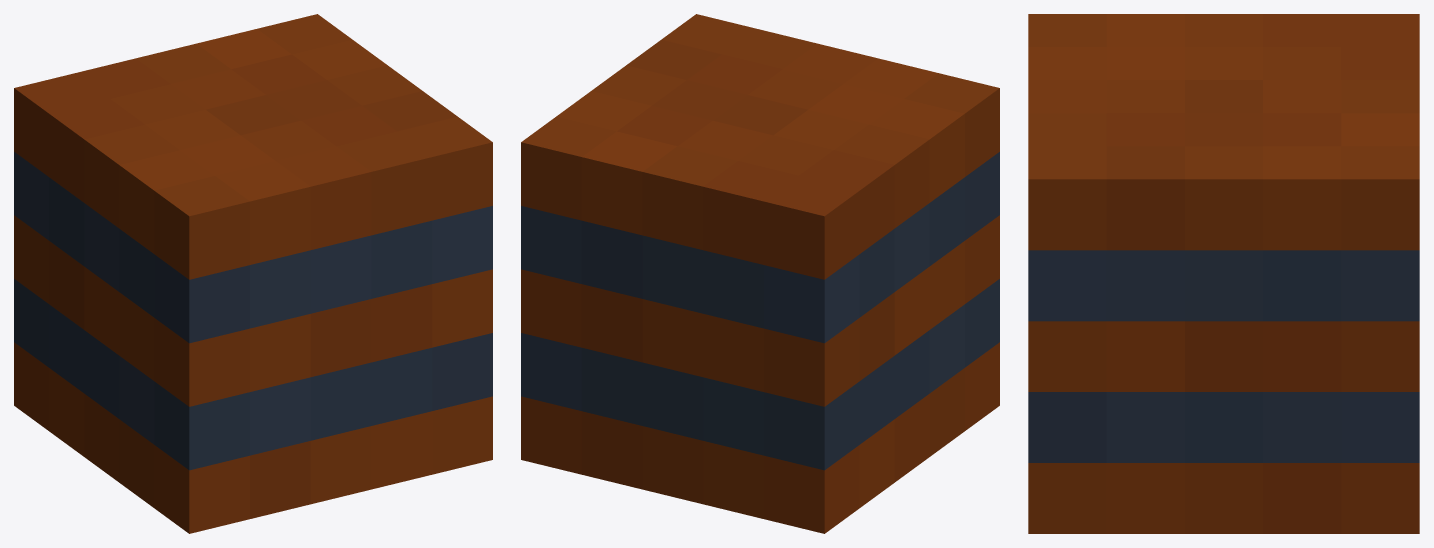
The model's file is barrel.glb.
The picture shows the model from 3 angles, left to right: view 1: azimuth 30°, elevation 25°; view 2: azimuth 150°, elevation 25°; view 3: azimuth 270°, elevation 25°; orthographic projection. The views are drawn at different scales.
Visible parts, largest first — view 1: VoxelBarrel; view 2: VoxelBarrel; view 3: VoxelBarrel.
Part boxes in pixels (<box>): VoxelBarrel: <box>14,14,492,533</box>; VoxelBarrel: <box>521,14,999,533</box>; VoxelBarrel: <box>1028,14,1419,533</box>.
Size of the model in its own units: 0.2 by 0.2 by 0.2.
